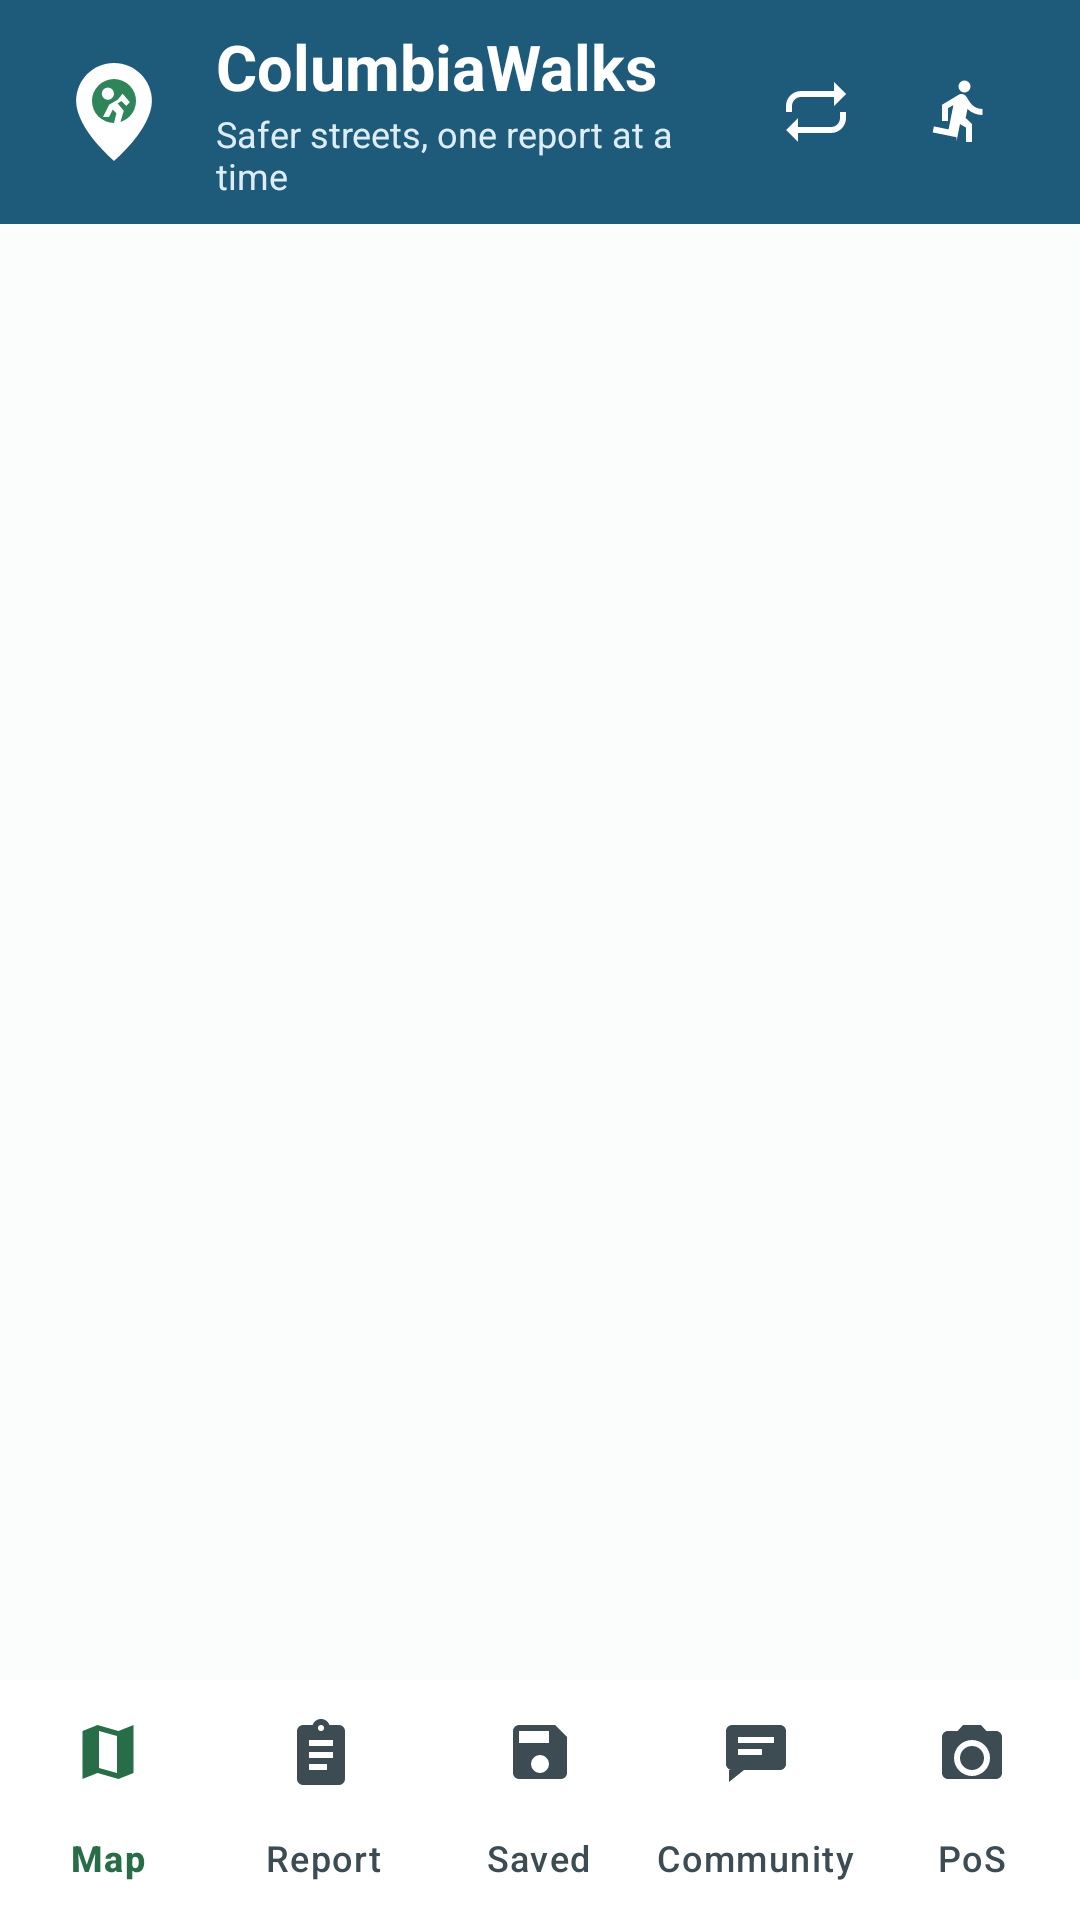

Named icons in this screenshot (1080px x 1920px) and their bounding boxes, (x1, y1, x2, y2):
Walking distance: (932, 80, 983, 142)
